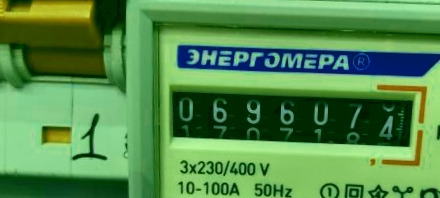0: (175, 94, 197, 123), (312, 97, 331, 127), (211, 95, 229, 122)
4: (377, 113, 395, 141)
6: (276, 95, 296, 126)
7: (344, 99, 364, 129)
9: (244, 96, 263, 125)
screen: (152, 70, 430, 166)
